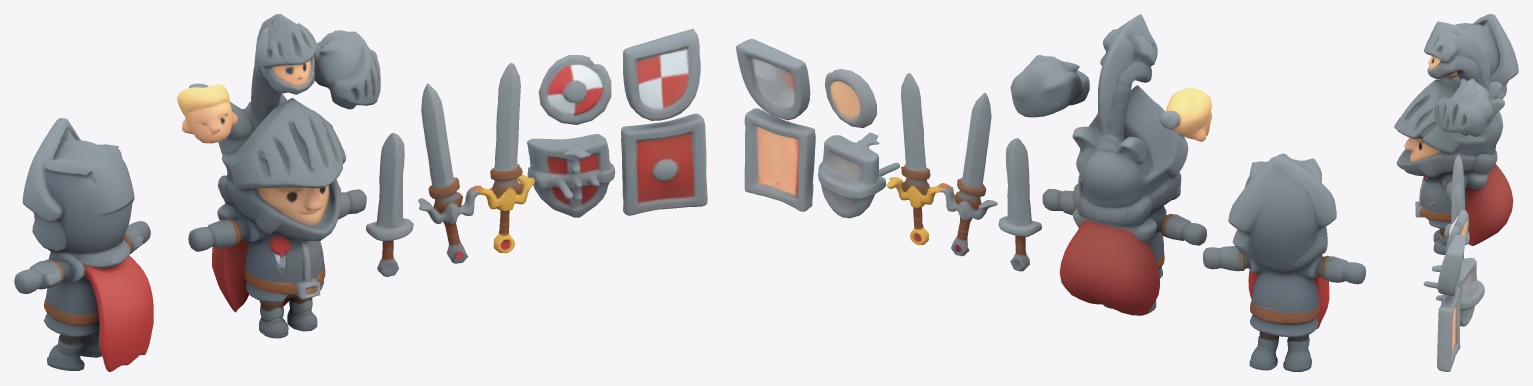
Rendered from ThanhGiong_Hero_base_basic_shaded.fbx.
3 views of the same model, side by side, from view 1: azimuth 30°, elevation 25°; view 2: azimuth 150°, elevation 25°; view 3: azimuth 270°, elevation 25° (orthographic). The views are drawn at different scales.
Visible parts, largest first — view 1: model; view 2: model; view 3: model.
Part boxes in pixels (<box>): model: <box>14,14,707,371</box>; model: <box>736,14,1365,371</box>; model: <box>1394,14,1518,371</box>.
Size of the model in its own units: 190 by 83.94 by 42.52.
